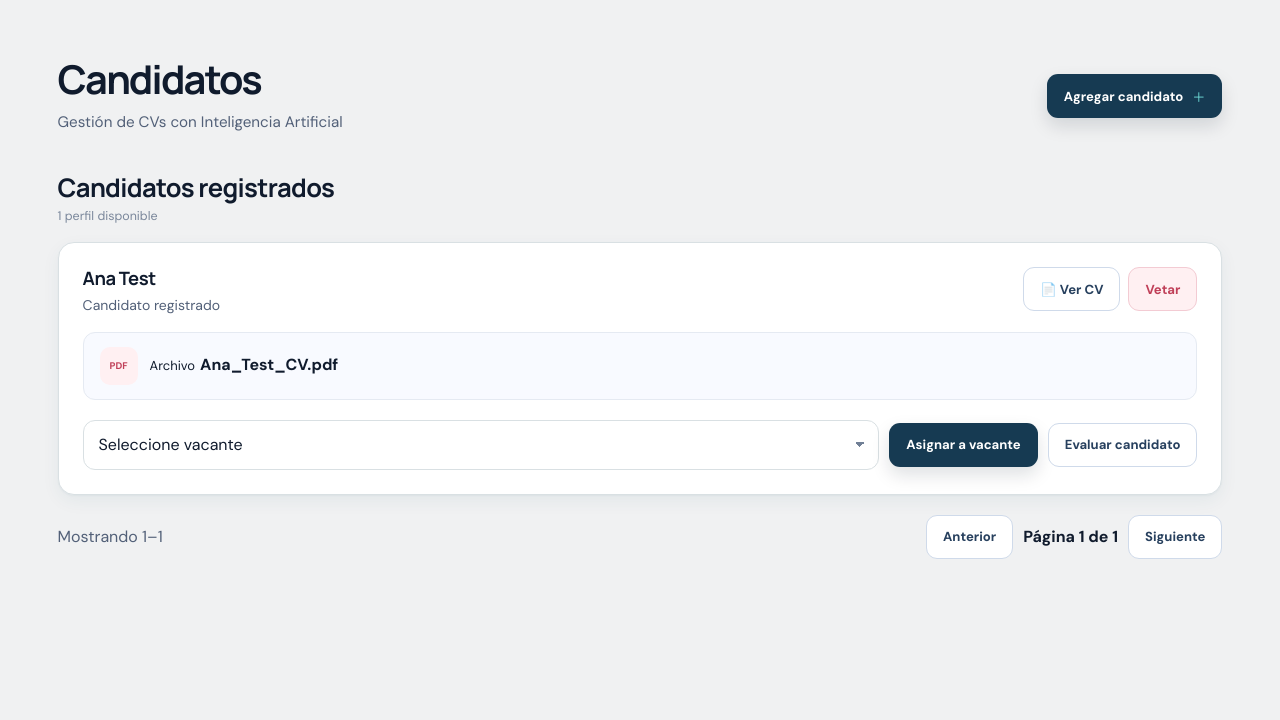
Test case: Candidates evaluation › shows Agregar candidato on Candidates page and opens the upload modal
The width and height of the screenshot is (1280, 720).
Expected: the heading "Ana Test" is shown, [83, 266, 156, 292]
Click the button "Agregar candidato ＋". click: (1135, 96)
box: [1047, 74, 1222, 118]
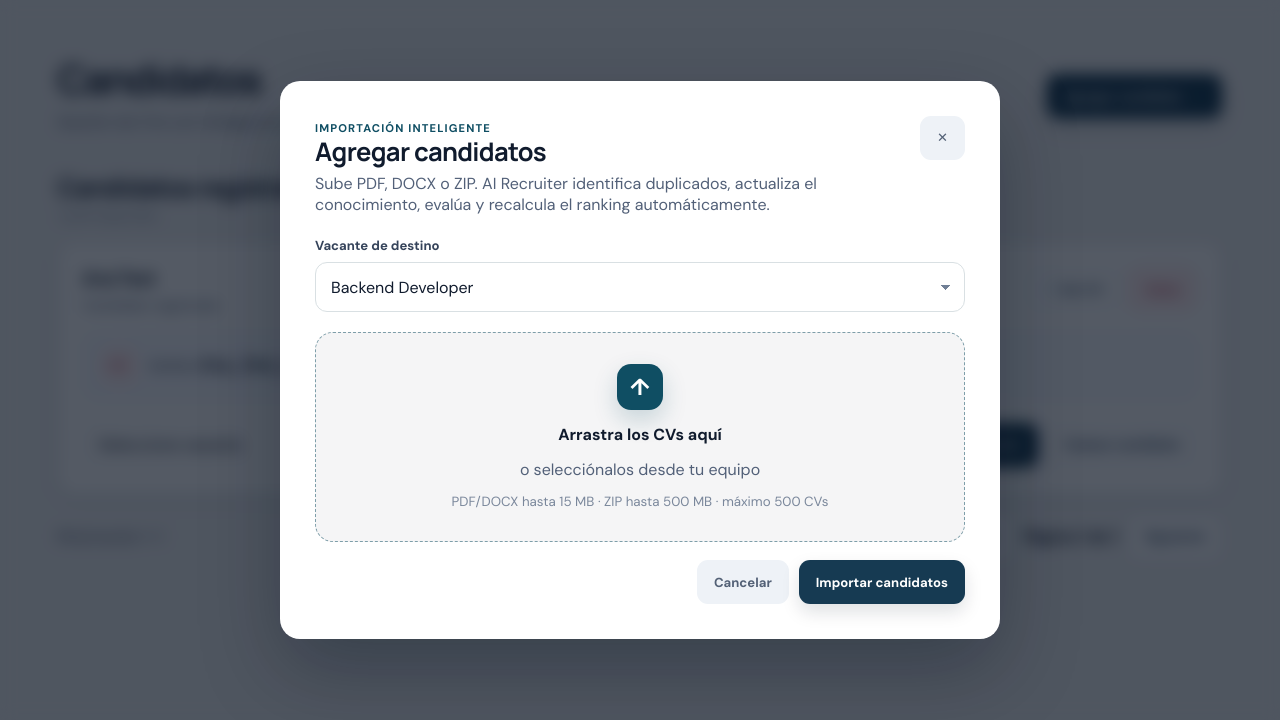
Expected: the heading "Agregar candidatos" is shown, [315, 134, 546, 169]
